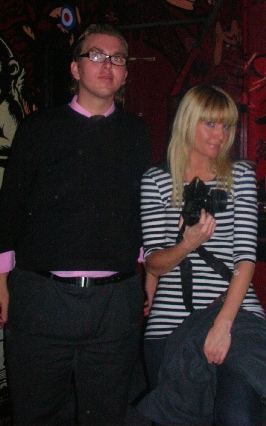person: (131, 86, 266, 426)
